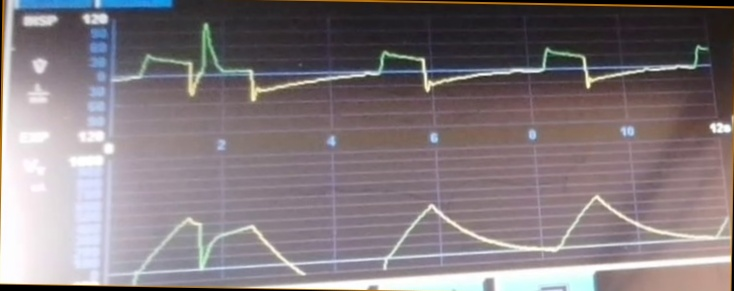Double_Triggering Flow: (117, 13, 708, 116)
Double_Triggering Volume: (128, 186, 730, 272)
